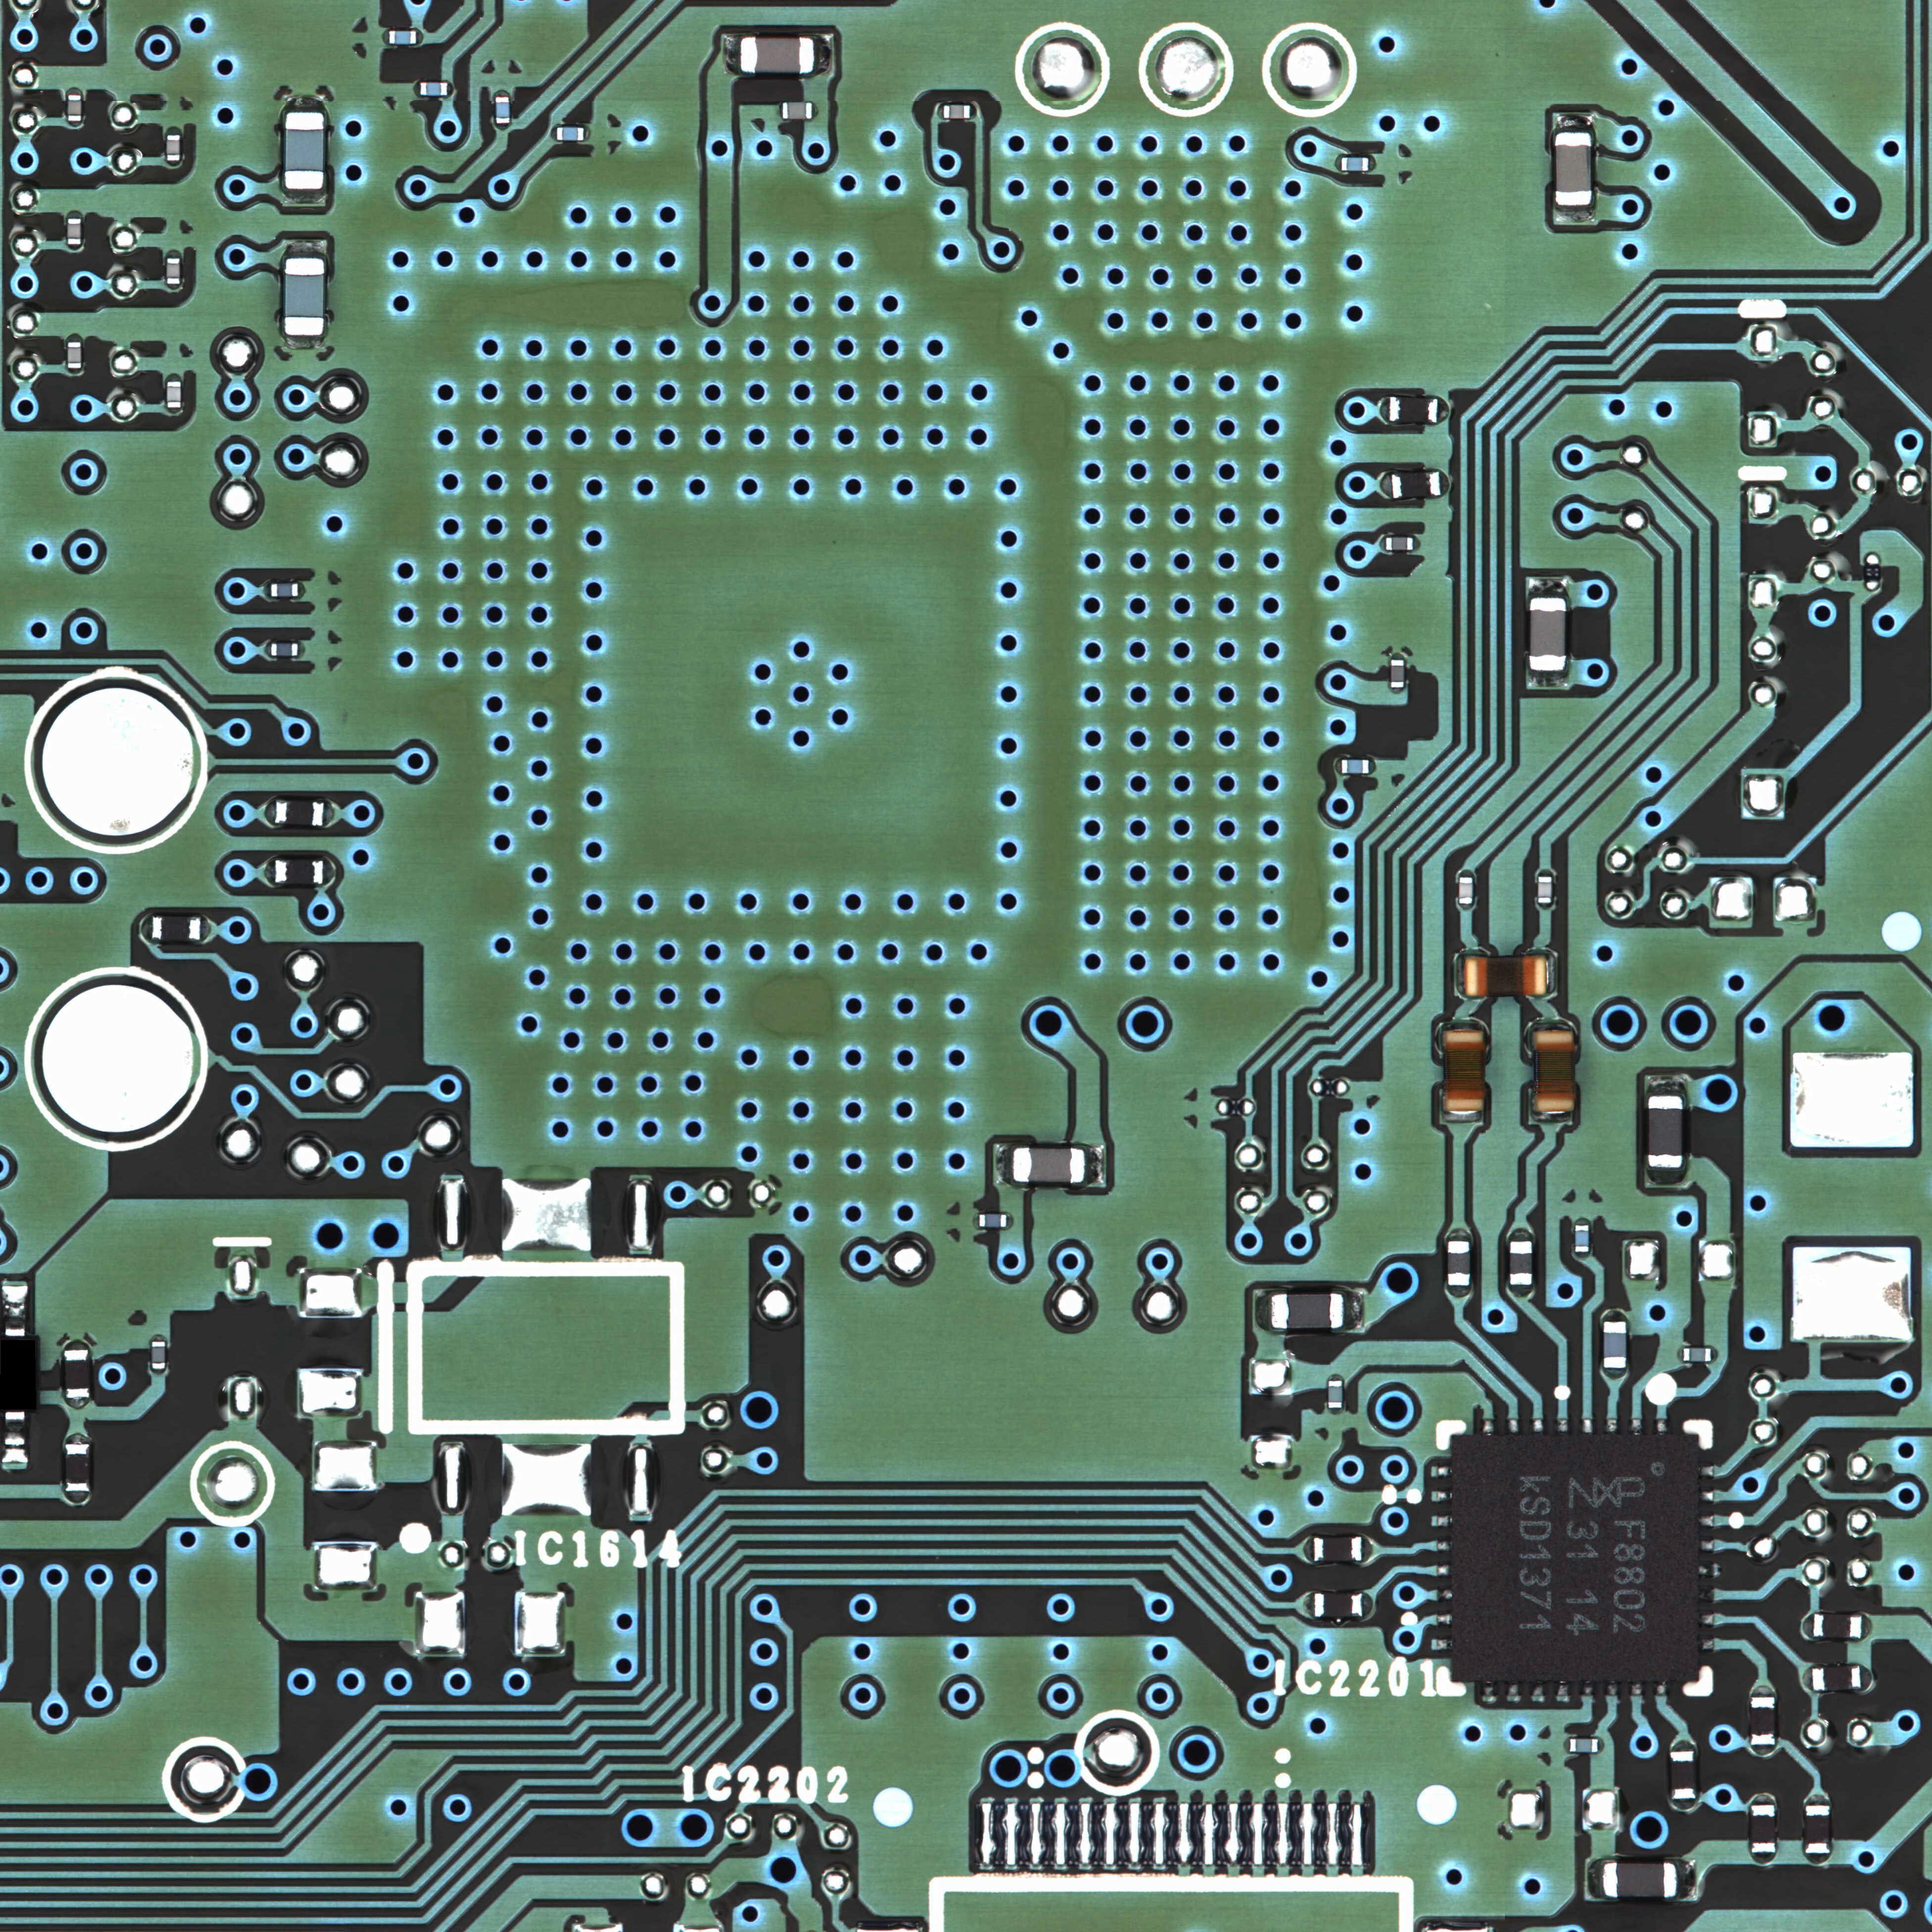Package: (1453, 1437, 1698, 1683), (1534, 1030, 1575, 1111), (1444, 1030, 1484, 1111), (1465, 957, 1546, 996), (285, 113, 324, 189), (285, 258, 324, 334), (1555, 133, 1592, 205), (1603, 1863, 1677, 1898), (741, 37, 814, 73), (1647, 1095, 1683, 1168), (1530, 598, 1566, 671), (1272, 1295, 1345, 1329), (1014, 1148, 1085, 1182), (1391, 471, 1440, 499), (64, 1350, 90, 1398), (1391, 396, 1437, 423), (276, 801, 324, 826), (65, 1444, 90, 1491), (1670, 1752, 1695, 1799), (1752, 1805, 1776, 1852), (1805, 1805, 1829, 1852), (276, 860, 322, 885), (152, 916, 200, 939), (1752, 1697, 1775, 1744), (1812, 1667, 1859, 1690), (1813, 1615, 1861, 1638), (1315, 1594, 1362, 1617), (1313, 1537, 1361, 1560), (1603, 1322, 1626, 1368), (1447, 1240, 1470, 1284), (1511, 1242, 1532, 1284), (782, 103, 812, 119), (150, 1341, 166, 1369), (419, 81, 448, 96), (271, 642, 299, 656), (1329, 1380, 1343, 1408), (1683, 1348, 1711, 1362), (1575, 1224, 1589, 1253), (1391, 660, 1405, 688), (1537, 876, 1552, 904), (67, 96, 81, 122), (389, 30, 416, 44), (495, 97, 510, 124), (67, 219, 81, 246), (67, 341, 81, 368), (166, 380, 180, 407), (1343, 759, 1369, 773), (1341, 157, 1368, 172), (1458, 878, 1472, 904), (166, 136, 180, 161), (166, 258, 180, 283), (271, 584, 299, 596), (1569, 1739, 1598, 1752), (1385, 538, 1414, 550), (557, 127, 584, 140), (945, 106, 970, 119), (978, 1215, 1007, 1226)
Solder: (4, 1412, 28, 1465), (2, 1284, 27, 1336), (1085, 1145, 1104, 1185), (1677, 1859, 1697, 1900), (1647, 1076, 1686, 1095), (1529, 579, 1568, 598), (285, 241, 327, 258), (996, 1143, 1014, 1184), (1345, 1292, 1362, 1330), (1254, 1290, 1270, 1330), (1555, 207, 1596, 223), (285, 96, 324, 111), (816, 35, 832, 74), (1647, 1169, 1686, 1185), (1529, 672, 1568, 688), (283, 189, 326, 203), (1555, 115, 1592, 131), (725, 34, 740, 74), (1589, 1858, 1603, 1898), (1530, 1111, 1575, 1123), (283, 336, 324, 349), (1529, 1019, 1575, 1030), (1442, 1111, 1481, 1123), (1440, 1019, 1484, 1030), (1456, 950, 1465, 998), (1546, 950, 1555, 996), (1380, 472, 1392, 501), (324, 858, 336, 885), (64, 1398, 90, 1410), (64, 1491, 90, 1504), (1750, 1852, 1776, 1865), (1509, 1284, 1532, 1299), (1447, 1226, 1470, 1240), (1302, 1592, 1315, 1617), (324, 800, 334, 828), (264, 856, 274, 885), (1438, 395, 1449, 423), (1438, 469, 1449, 497), (1752, 1684, 1775, 1697), (1603, 1368, 1626, 1380), (1509, 1228, 1532, 1240), (1447, 1286, 1470, 1299), (1362, 1536, 1373, 1562), (1302, 1536, 1313, 1562), (1805, 1854, 1831, 1865), (1750, 1794, 1776, 1805), (1861, 1665, 1872, 1691), (202, 916, 212, 941), (142, 915, 152, 939), (65, 1433, 90, 1444), (1805, 1794, 1829, 1805), (1670, 1799, 1695, 1810), (1752, 1744, 1776, 1755), (1861, 1615, 1872, 1640), (1803, 1615, 1813, 1638), (1603, 1309, 1626, 1320), (1380, 396, 1389, 423), (1698, 1562, 1714, 1576), (1698, 1612, 1714, 1626), (1698, 1637, 1714, 1651), (1530, 1683, 1546, 1697), (1481, 1683, 1497, 1697), (265, 801, 274, 826), (65, 1339, 90, 1348), (1670, 1741, 1695, 1750), (1364, 1594, 1373, 1617), (1555, 1683, 1569, 1697), (1506, 1683, 1520, 1697), (1629, 1683, 1644, 1697), (1654, 1683, 1668, 1697), (1483, 1419, 1495, 1435), (1605, 1419, 1617, 1435), (1698, 1465, 1714, 1477), (1698, 1490, 1714, 1502), (1698, 1539, 1714, 1552), (1803, 1663, 1810, 1690), (1698, 1589, 1713, 1601), (1438, 1589, 1453, 1601), (1580, 1683, 1594, 1695), (1605, 1683, 1617, 1697), (1507, 1419, 1518, 1435), (1532, 1419, 1543, 1435), (1557, 1419, 1568, 1435), (1582, 1419, 1592, 1435), (1631, 1419, 1642, 1435), (1656, 1419, 1667, 1435), (1700, 1514, 1713, 1527), (1438, 1490, 1451, 1502), (1438, 1539, 1451, 1552), (1437, 1566, 1451, 1576), (1437, 1640, 1451, 1651), (1438, 1467, 1451, 1477), (1438, 1516, 1451, 1527), (1438, 1615, 1451, 1626), (550, 124, 557, 142), (67, 333, 81, 341), (166, 372, 180, 380), (264, 580, 271, 598), (299, 640, 306, 658), (264, 640, 271, 658), (812, 103, 819, 120), (936, 103, 943, 120), (1369, 154, 1376, 172), (1334, 154, 1341, 172), (416, 28, 423, 44), (299, 582, 306, 598), (150, 1334, 166, 1341), (1575, 1253, 1591, 1260), (1575, 1217, 1591, 1224), (1537, 869, 1553, 876), (1458, 904, 1474, 911), (1391, 651, 1403, 660), (67, 87, 81, 94), (166, 127, 180, 134), (382, 30, 389, 44), (448, 81, 455, 96), (412, 81, 419, 96), (495, 124, 510, 131), (584, 126, 591, 140), (166, 249, 180, 257), (67, 368, 81, 375), (150, 1369, 165, 1376), (1329, 1408, 1343, 1415), (1007, 1214, 1014, 1228), (970, 104, 977, 119), (1378, 536, 1385, 550), (1389, 688, 1403, 695), (1369, 759, 1376, 773), (1334, 759, 1341, 773), (1598, 1739, 1605, 1753), (1562, 1737, 1569, 1752), (1711, 1348, 1718, 1362), (1537, 904, 1552, 911), (1460, 869, 1474, 876), (67, 211, 80, 218), (1414, 538, 1421, 550), (494, 90, 510, 96), (67, 122, 81, 127), (166, 161, 180, 166), (166, 285, 180, 290), (166, 409, 180, 414), (1329, 1375, 1343, 1380), (973, 1214, 978, 1228), (1677, 1348, 1683, 1362), (67, 246, 80, 251), (778, 103, 782, 119)
